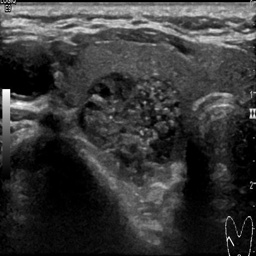mass: (81, 72, 179, 176)
